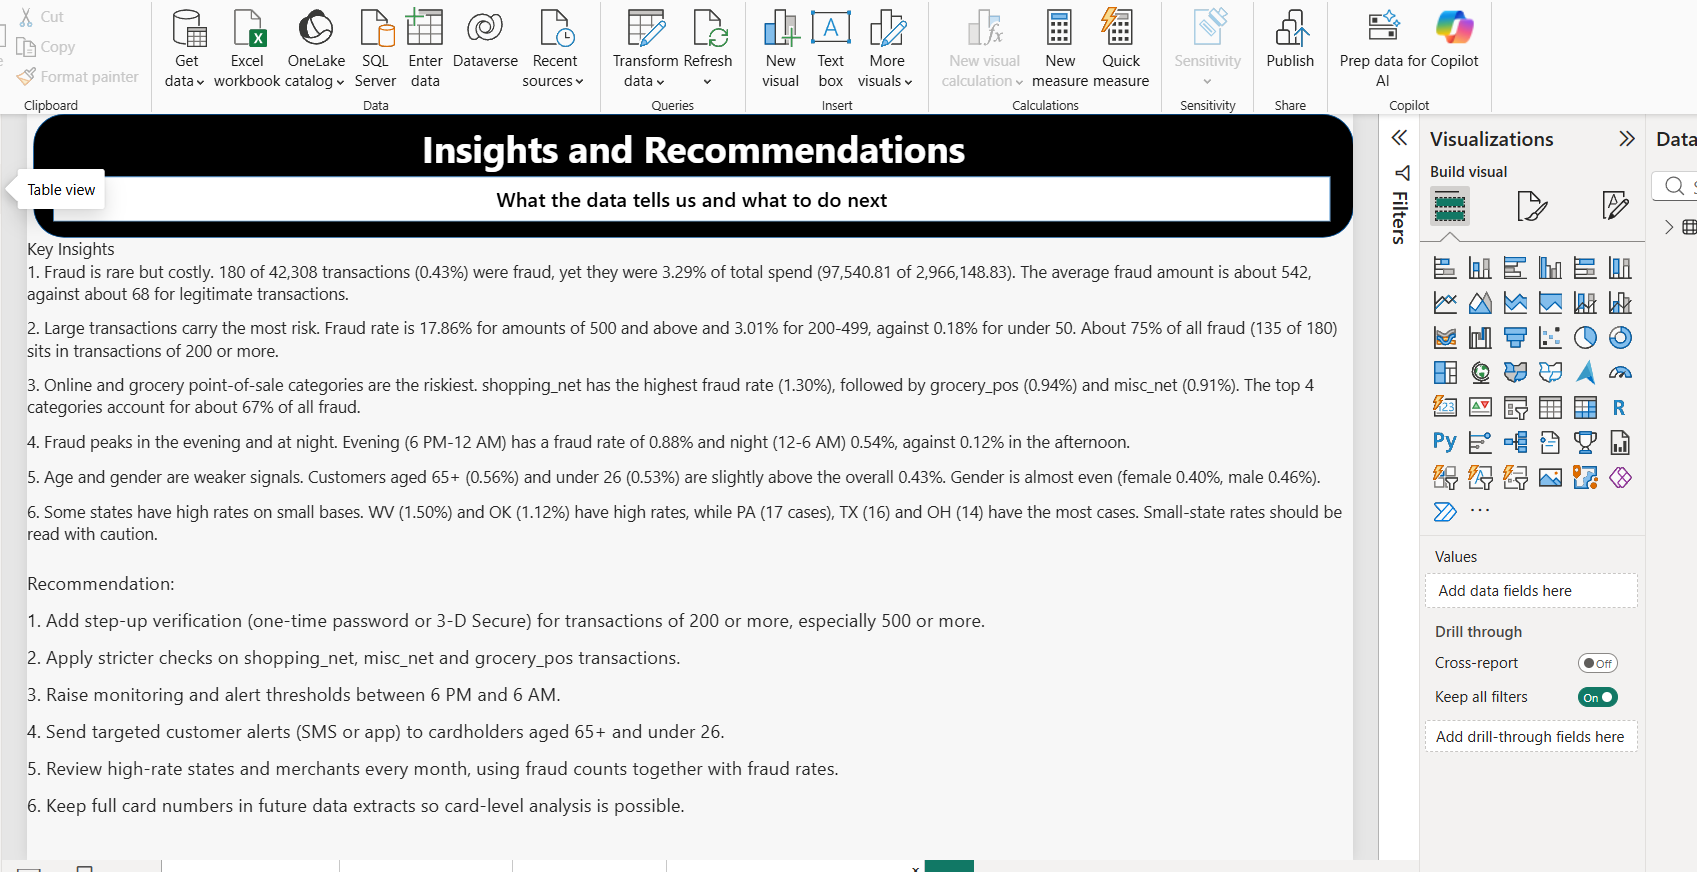

The page's visual inventory and layout, read from the dashboard file:
{"tool":"powerbi","page":{"name":"Insights and Recommendation","canvas":[1920,1080],"ordinal":3},"visuals":[{"type":"shape","box":[9.3,0,1911.6,179.1],"z":0},{"type":"shape","box":[37.2,90.7,1848.8,65.1],"z":1},{"type":"textbox","box":[0,179.1,1920.9,900],"z":2}]}

Visuals, with their boxes on the page's 1920x1080 design canvas (x1, y1, x2, y2). These are canvas units, not pixel positions in the 1697x872 screenshot, which may show the page scaled, cropped or inside an application window:
shape: x1=9, y1=0, x2=1921, y2=179
shape: x1=37, y1=91, x2=1886, y2=156
textbox: x1=0, y1=179, x2=1921, y2=1079
